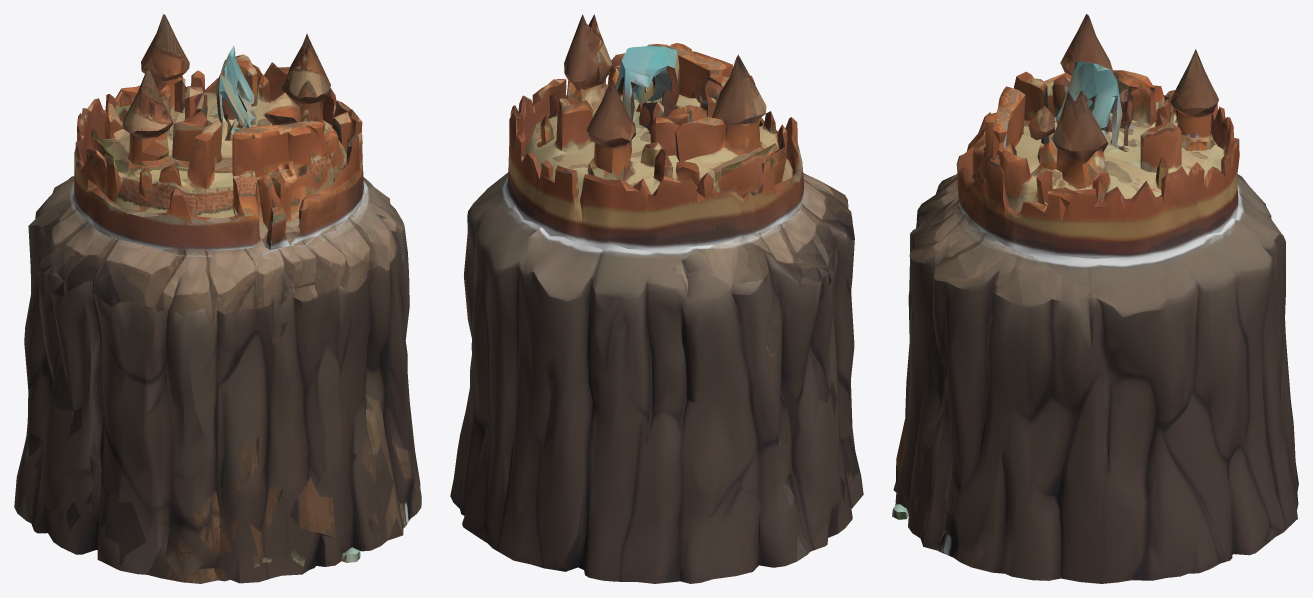
The model's file is etiopia_amba.glb.
The picture shows the model from 3 angles, left to right: view 1: azimuth 30°, elevation 25°; view 2: azimuth 150°, elevation 25°; view 3: azimuth 270°, elevation 25°; orthographic projection.
Parts seen in each view (by area): view 1: geometry_0; view 2: geometry_0; view 3: geometry_0.
Boxes of the visible parts, bbox=[...] form: geometry_0: bbox=[14, 14, 421, 583]; geometry_0: bbox=[450, 14, 863, 583]; geometry_0: bbox=[892, 14, 1298, 583].
Size of the model in its own units: 3.37 by 4.14 by 3.4.
1 material, 1 textured.
